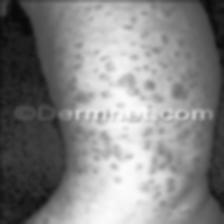Toxin: (53, 0, 202, 214)
